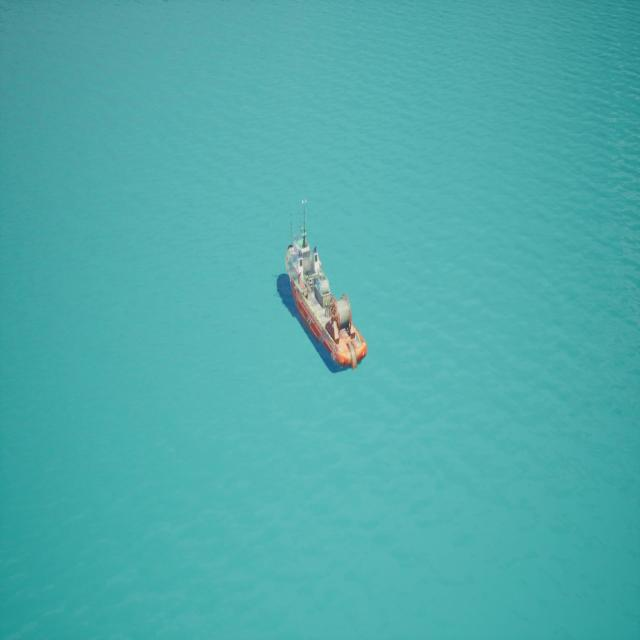tug boat: (276, 197, 353, 374)
